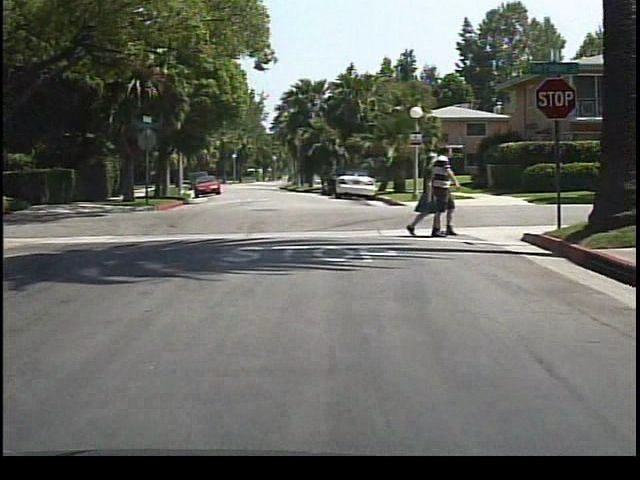person: (433, 144, 466, 240), (410, 151, 439, 240)
